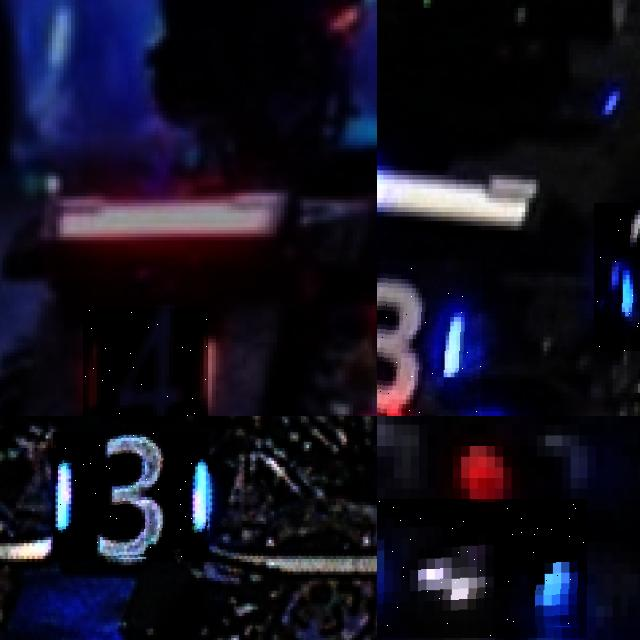B3: (54, 432, 210, 562), (377, 260, 483, 416), (594, 202, 640, 351)
B4: (377, 499, 587, 637)
R4: (82, 308, 208, 416)
